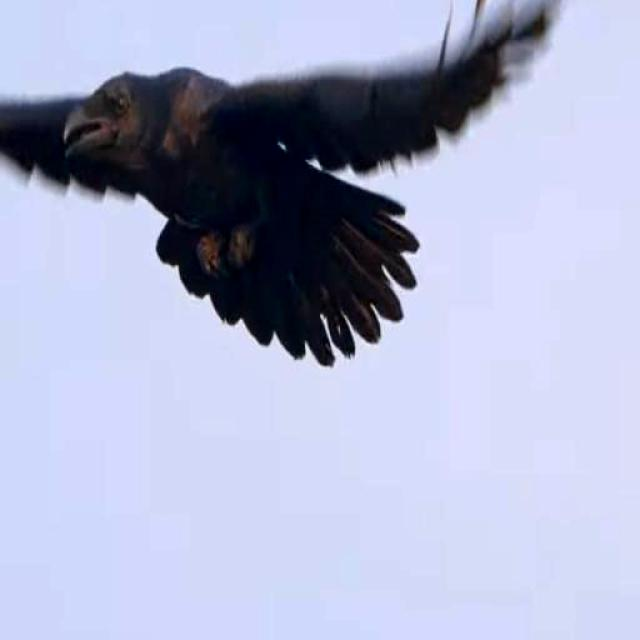airplane: (0, 0, 600, 372)
